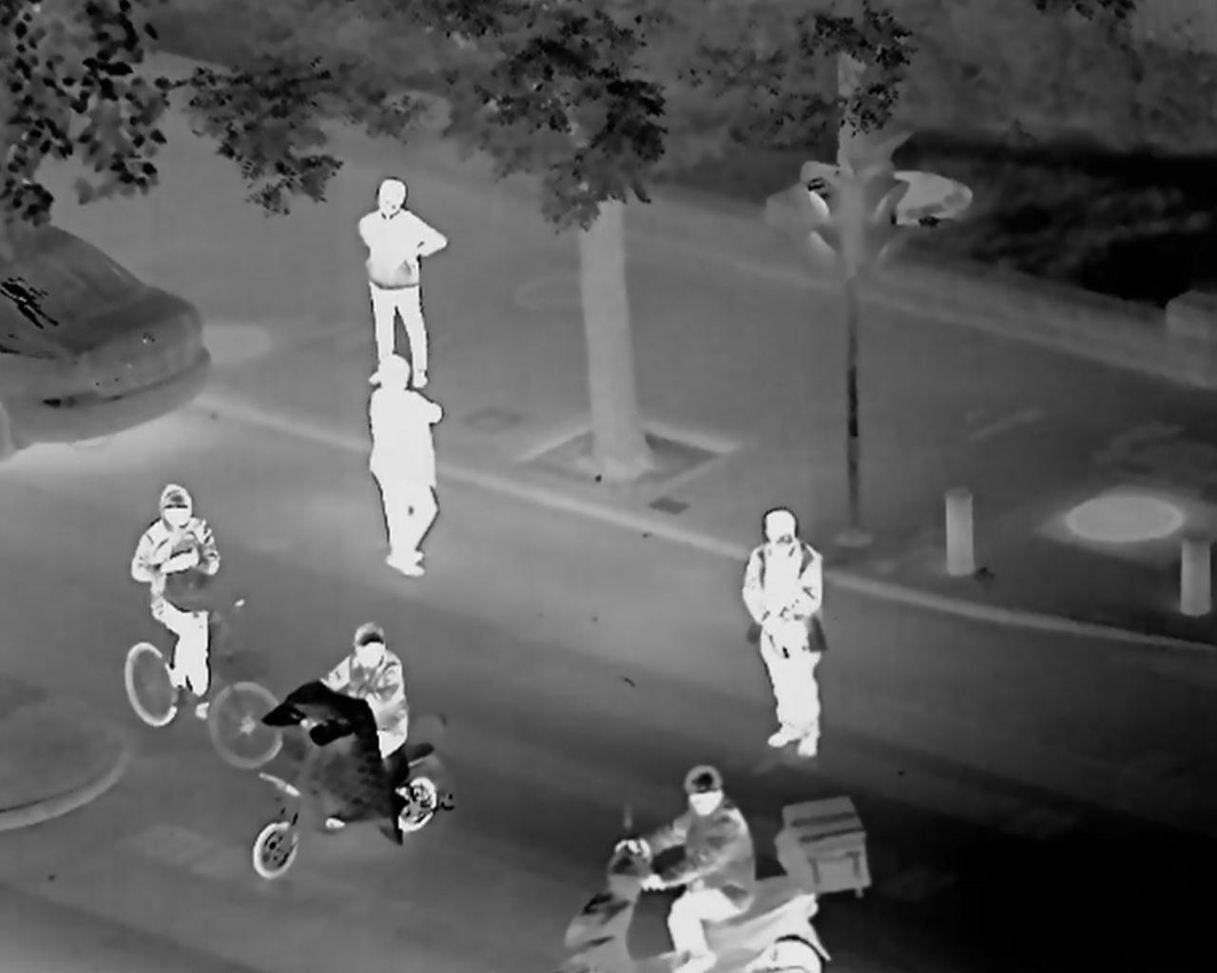person: (727, 491, 886, 777), (627, 747, 770, 973), (133, 463, 252, 727), (334, 169, 455, 366), (367, 372, 454, 578), (323, 617, 416, 772)
